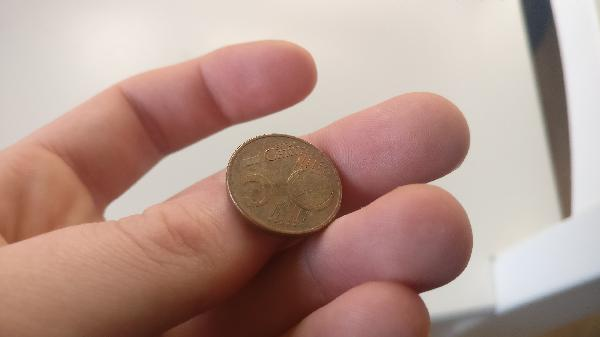Five Cent: (224, 131, 347, 236)
